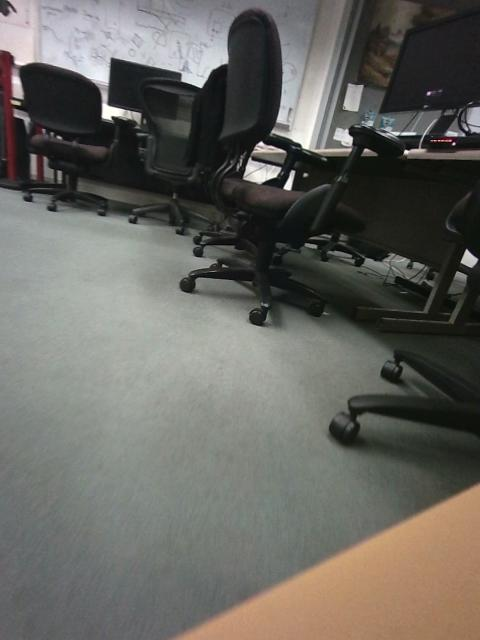block: (94, 442, 210, 531)
